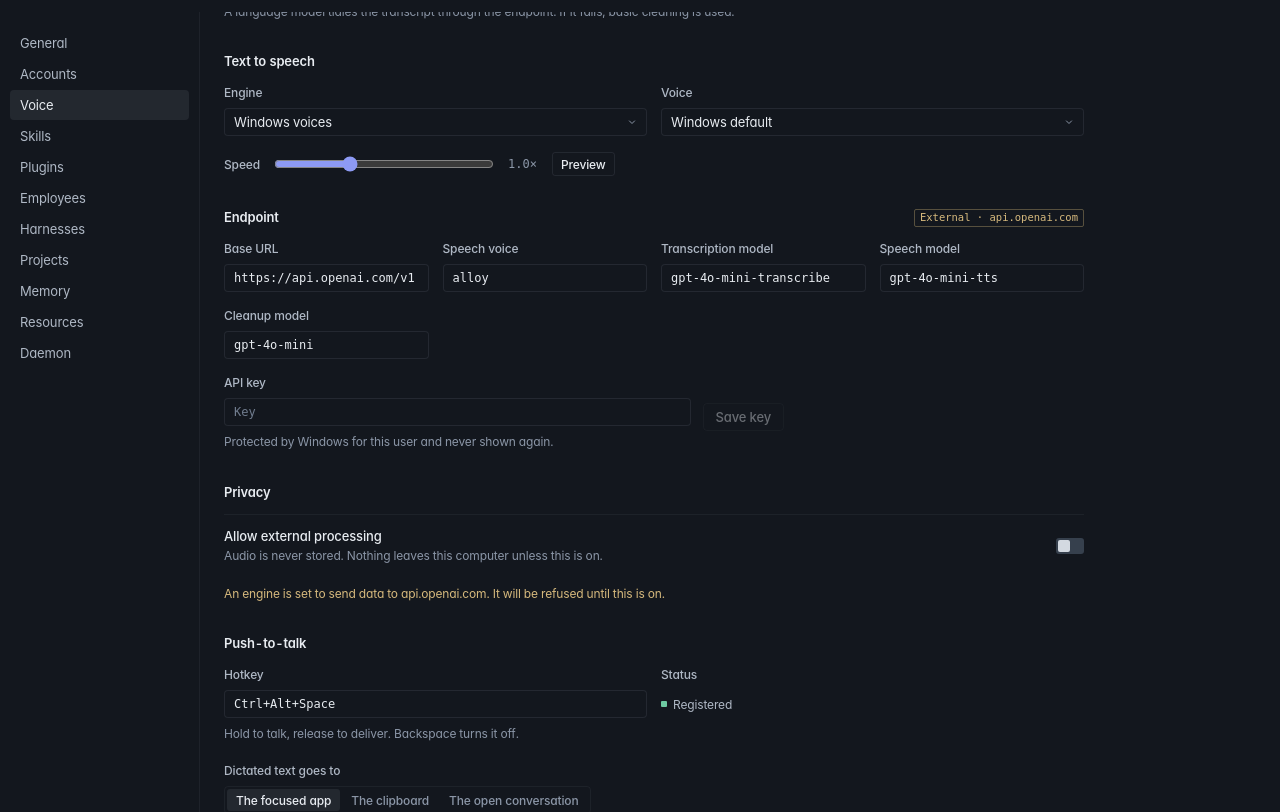
Voice settings › the API key is sent once and the field is cleared
(page scrolled)
Step 1. Type "sk-secret-value" into the password field labelled "API key" → (457, 412), box [224, 398, 690, 426]
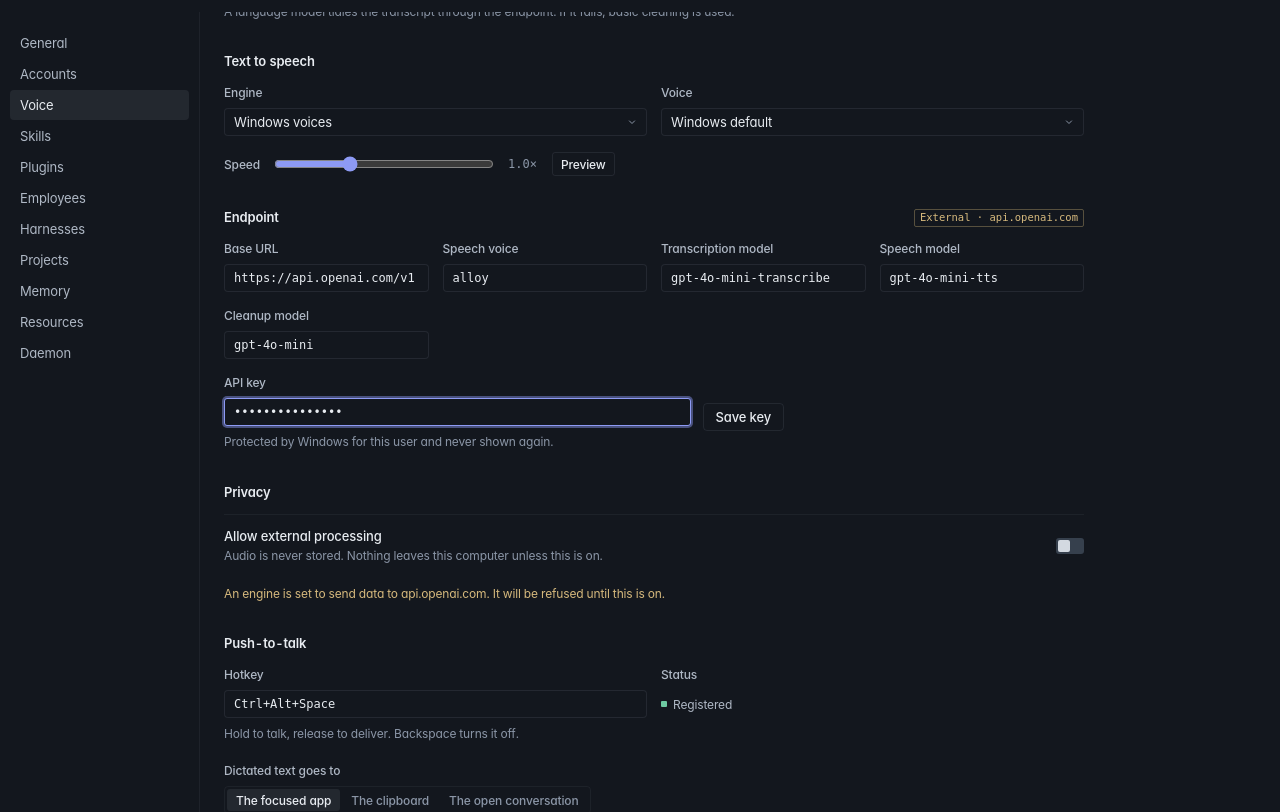
Step 2. Click the button "Save key" → (743, 417), box [702, 403, 784, 431]
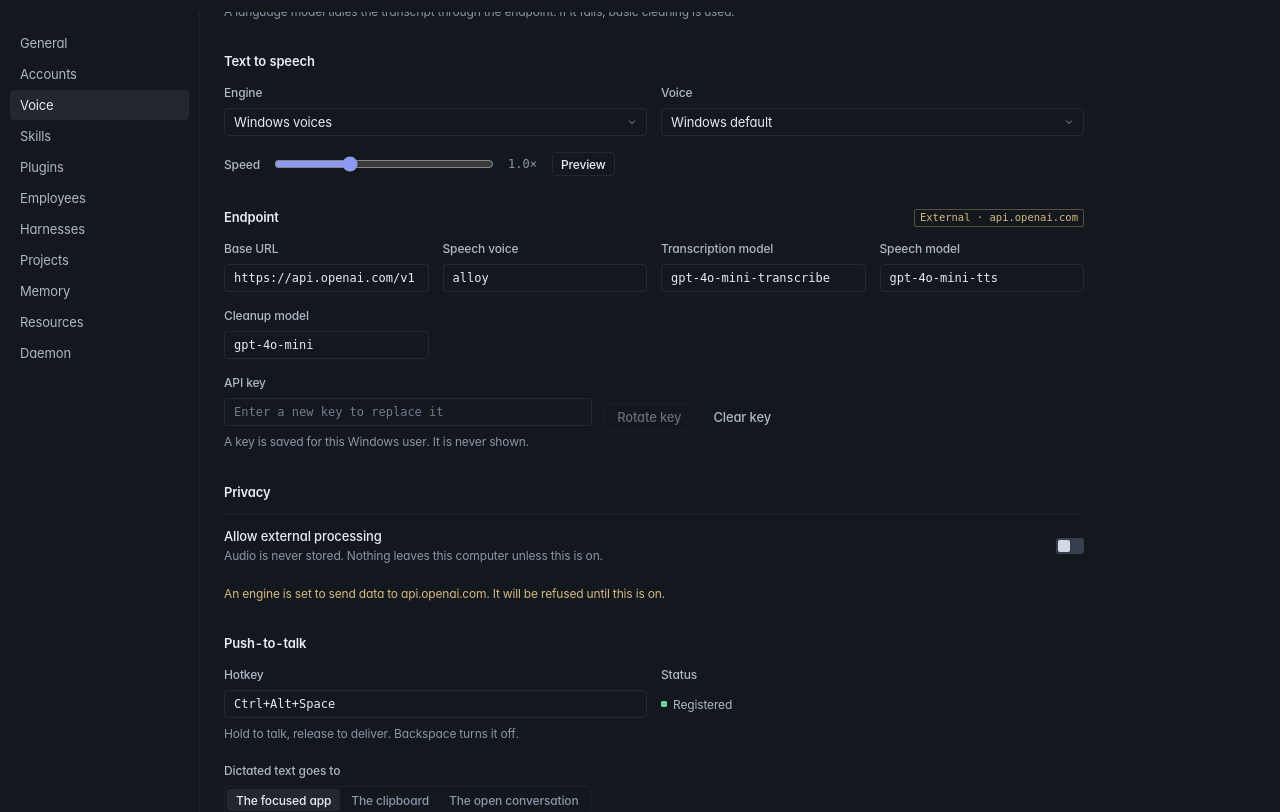
Expected: the text "A key is saved for this Windows user. It is never shown." is shown, [224, 434, 529, 449]
Now the password field labelled "API key" is empty, box [224, 398, 592, 426]
Now the button "Rotate key" is shown, box [604, 403, 694, 431]
